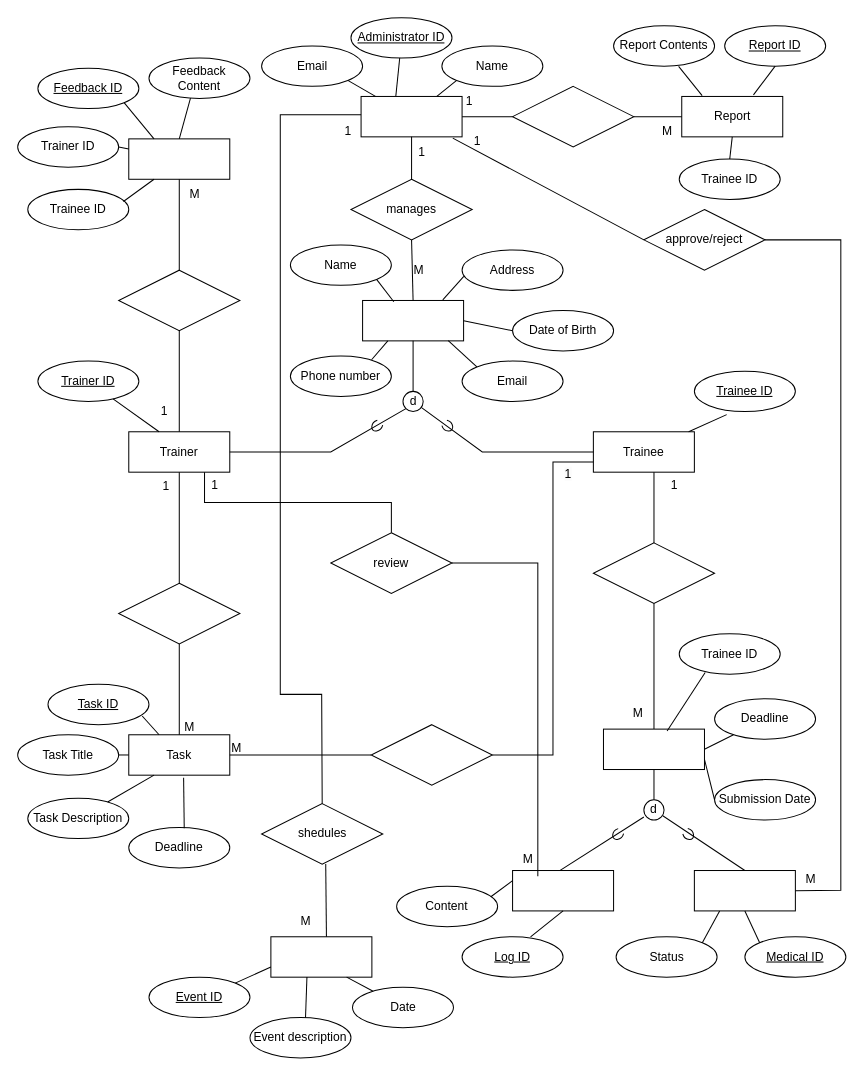
Some shapes in this 864 by 1076 pixel diagram are drawn without their labels. Each missing label, with the box of its shape:
Administrator: (360, 95, 462, 137)
assigns: (118, 582, 240, 644)
Calendar Event: (270, 936, 372, 977)
Feedback: (128, 138, 230, 179)
generates: (512, 85, 634, 147)
is given by: (118, 269, 240, 331)
Medical Document: (693, 870, 795, 911)
Person: (362, 299, 464, 341)
Submissions: (602, 728, 704, 770)
submits: (592, 542, 715, 603)
tracks: (370, 724, 492, 785)
Training Log: (512, 870, 614, 911)
